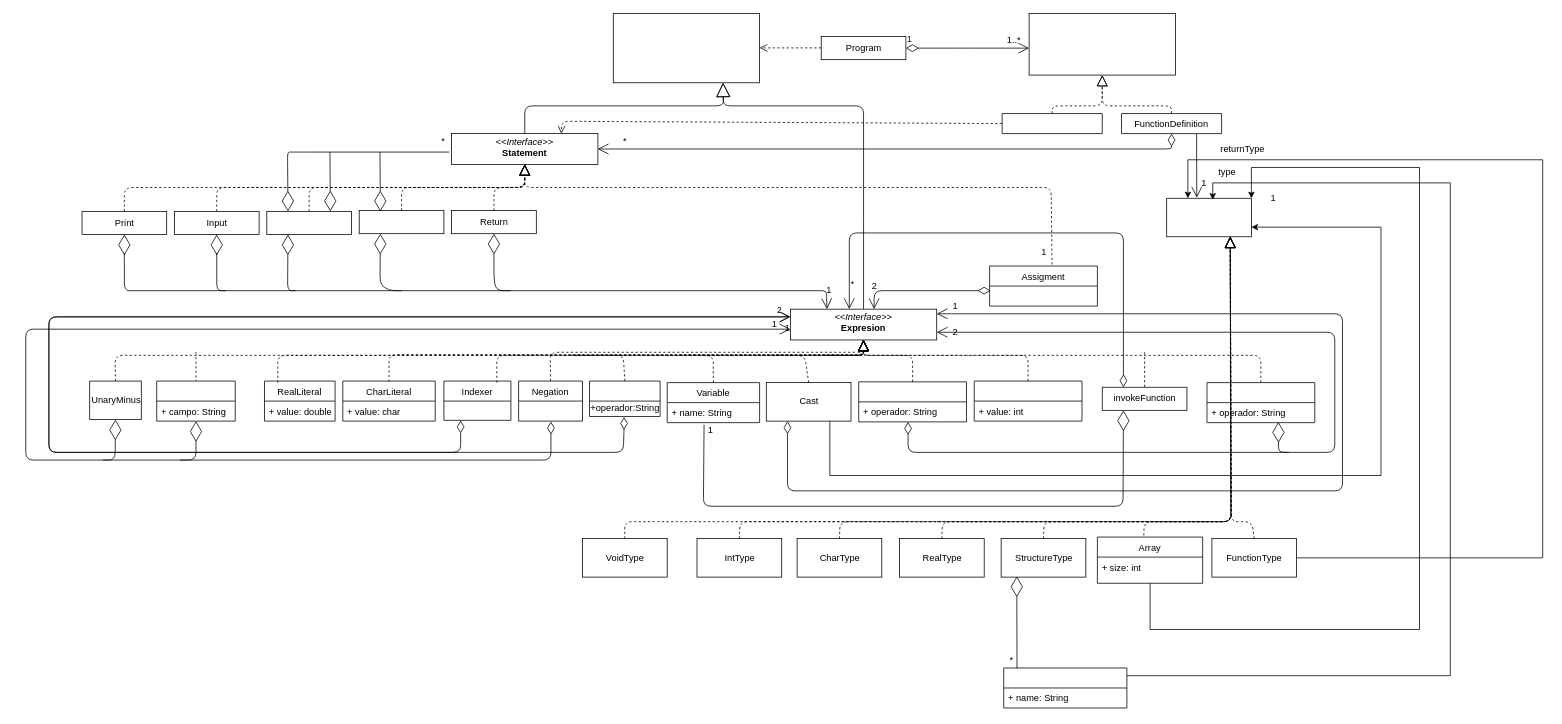
The diagram is 1562 pixels wide and 724 high, and some of its shapes have lost their labels. The shapes that lost their labels are listed below. From the top down, each one's box as (x1, y1, x2, y2) in pixels, then its label:
(613, 13, 760, 83): <<Interface>> ASTNode + getLine(): int + getColumn(): int
(1028, 13, 1175, 75): <<Interface>> Definition + getType(): Type + getName(): String
(1001, 113, 1102, 134): VariableDefinition
(266, 211, 352, 234): if-else
(358, 210, 444, 234): While
(1166, 198, 1251, 237): «interface» Type
(156, 380, 235, 421): FiledAccess
(589, 380, 660, 416): Comparation
(858, 381, 967, 422): Logic
(973, 380, 1082, 421): IntLiteral
(1206, 382, 1315, 423): Arithmetic
(1003, 667, 1127, 708): StructureField
